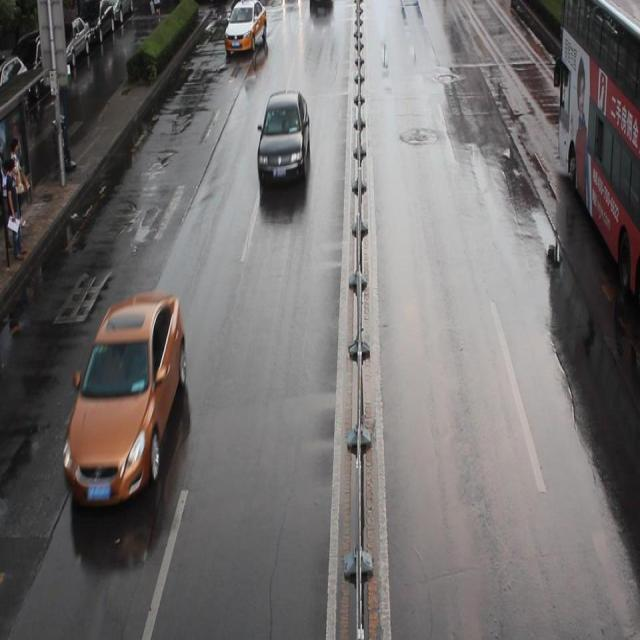car: (62, 289, 187, 503), (257, 91, 309, 183), (224, 1, 268, 52), (308, 1, 332, 13)
van: (556, 1, 640, 308)
